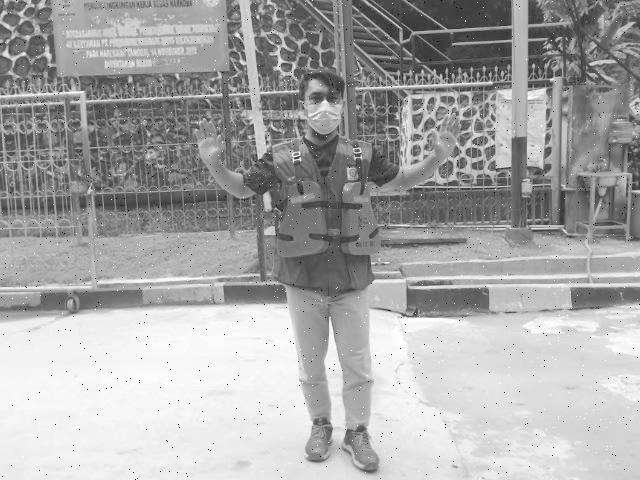mask: (307, 102, 341, 133)
safety-shoes: (339, 421, 384, 476), (300, 416, 336, 468)
vest: (274, 178, 384, 262)
